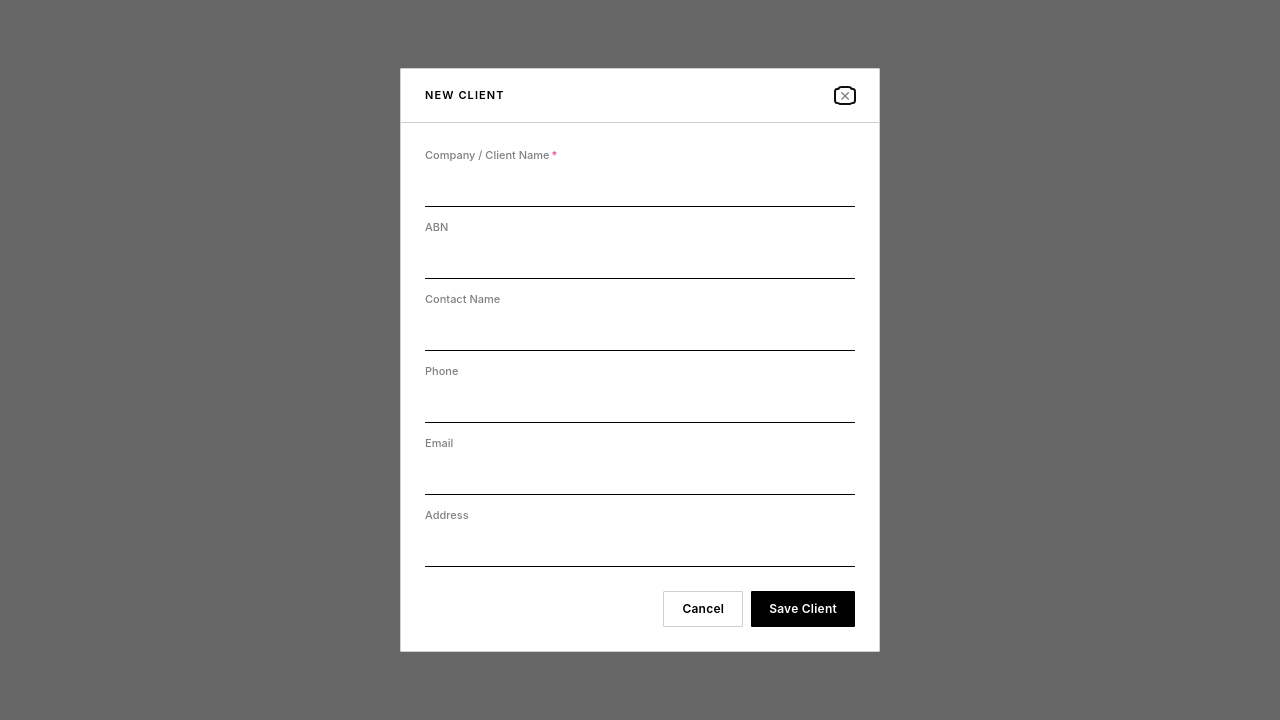
Test: ClientForm › blocks save when Name is empty and shows red-line error
Click the button "Save Client" at (803, 609), box [751,591,855,627]
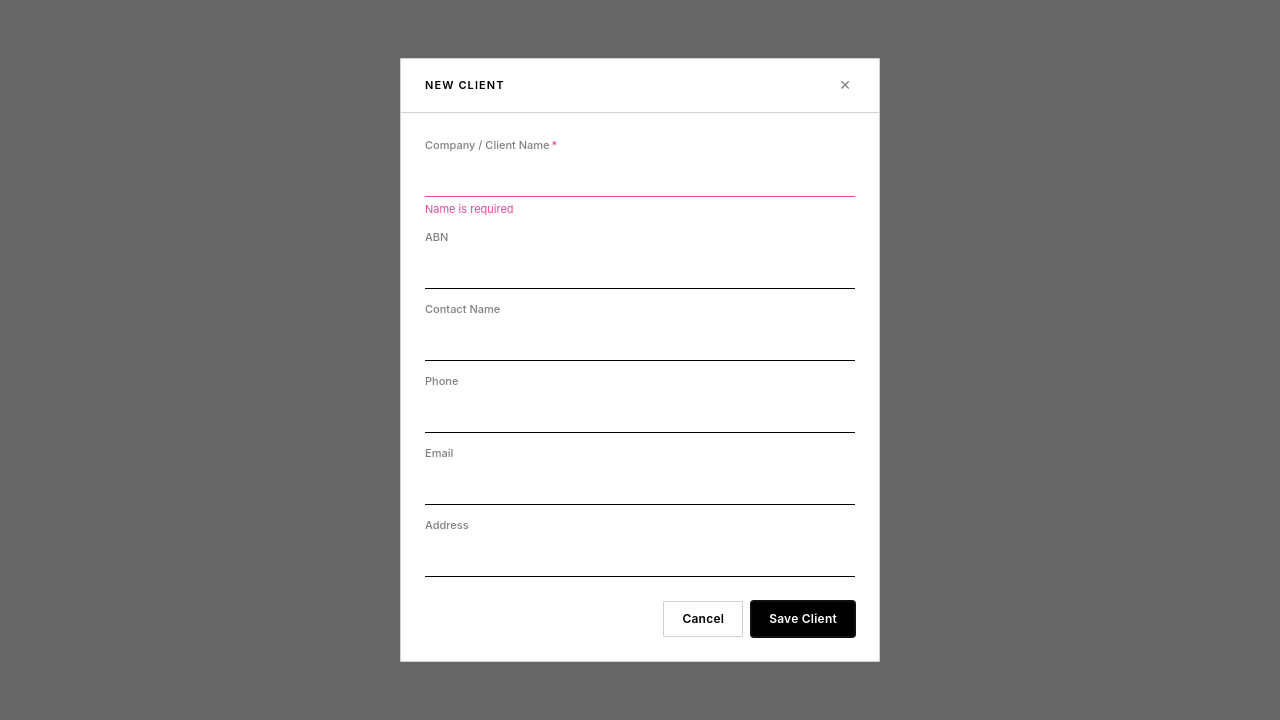
Now the text "Name is required" is shown, box [425,202,514,216]
